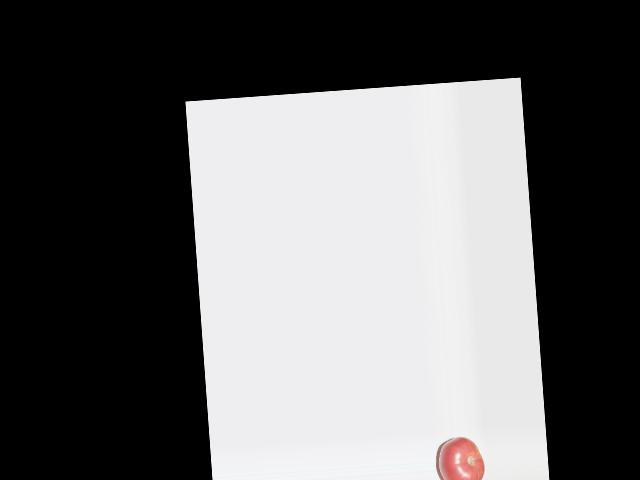tomato: (437, 435, 486, 480)
